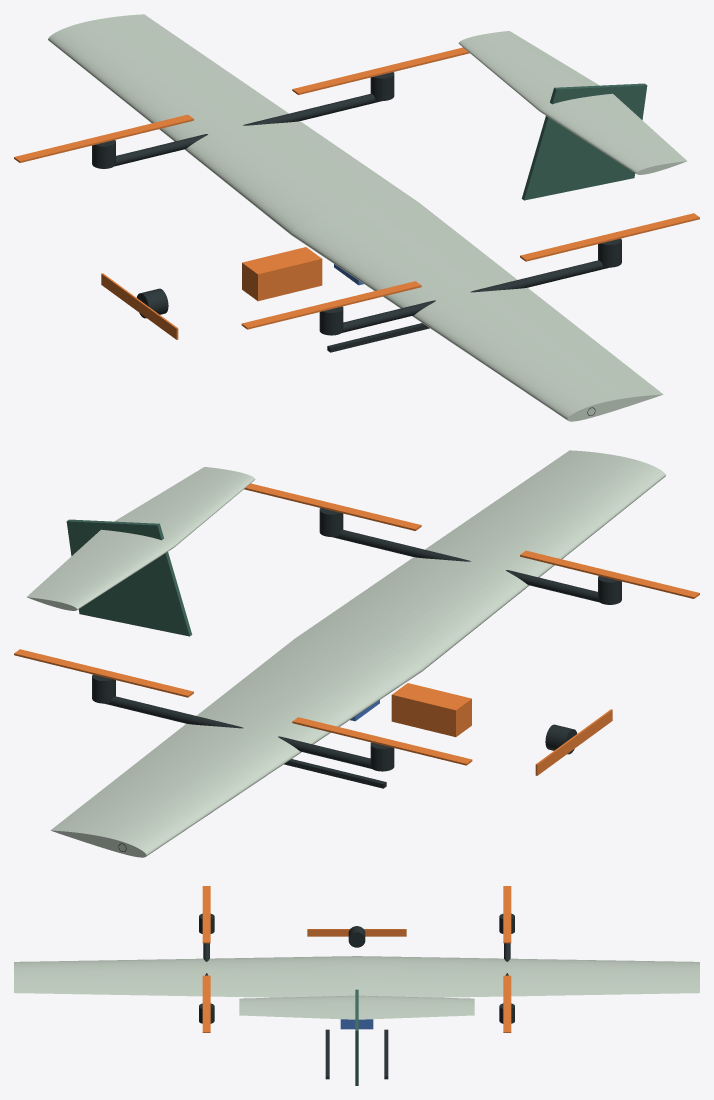
Rendered from 01-internal.glb.
The picture shows the model from 3 angles, top to bottom: view 1: azimuth 30°, elevation 25°; view 2: azimuth 150°, elevation 25°; view 3: azimuth 270°, elevation 25°; orthographic projection. The views are drawn at different scales.
Visible parts, largest first — view 1: wing-1, wing1, fin, tail-1, tail1, battery, boom-1, boom1, prop_-1_130.0, prop_-1_780.0, prop_1_130.0, prop_1_780.0 (+3 smaller); view 2: wing1, wing-1, fin, tail1, tail-1, battery, boom1, boom-1, prop_1_130.0, prop_-1_130.0, prop_1_780.0, prop_-1_780.0 (+3 smaller); view 3: wing-1, wing1, tail-1, tail1, cruise_prop, prop_-1_130.0, prop_-1_780.0, prop_1_130.0, prop_1_780.0, fin, payload, cruise_motor.
Boxes of the visible parts, bbox=[...] form: wing-1: bbox=[290, 202, 663, 421]; wing1: bbox=[48, 14, 418, 234]; fin: bbox=[521, 83, 647, 200]; tail-1: bbox=[539, 93, 687, 174]; tail1: bbox=[458, 31, 599, 110]; battery: bbox=[242, 247, 322, 301]; boom-1: bbox=[342, 260, 608, 332]; boom1: bbox=[115, 93, 381, 166]; prop_-1_130.0: bbox=[241, 281, 421, 329]; prop_-1_780.0: bbox=[520, 213, 699, 261]; prop_1_130.0: bbox=[14, 114, 193, 162]; prop_1_780.0: bbox=[292, 47, 469, 94]; wing1: bbox=[50, 638, 423, 857]; wing-1: bbox=[295, 450, 665, 670]; fin: bbox=[66, 519, 192, 636]; tail1: bbox=[26, 529, 174, 610]; tail-1: bbox=[114, 467, 255, 546]; battery: bbox=[391, 683, 471, 737]; boom1: bbox=[105, 696, 371, 768]; boom-1: bbox=[332, 529, 598, 602]; prop_1_130.0: bbox=[292, 717, 472, 765]; prop_-1_130.0: bbox=[520, 550, 699, 598]; prop_1_780.0: bbox=[14, 649, 193, 697]; prop_-1_780.0: bbox=[244, 483, 421, 530]; wing-1: bbox=[14, 956, 356, 997]; wing1: bbox=[357, 956, 699, 997]; tail-1: bbox=[239, 995, 355, 1019]; tail1: bbox=[358, 995, 474, 1019]; cruise_prop: bbox=[307, 929, 406, 936]; prop_-1_130.0: bbox=[202, 886, 210, 943]; prop_-1_780.0: bbox=[202, 975, 210, 1032]; prop_1_130.0: bbox=[503, 886, 511, 943]; prop_1_780.0: bbox=[503, 975, 511, 1032]; fin: bbox=[355, 989, 358, 1085]; payload: bbox=[340, 1019, 373, 1029]; cruise_motor: bbox=[348, 926, 365, 947].
Size of the model in its own units: 1203 by 415 by 2100.
